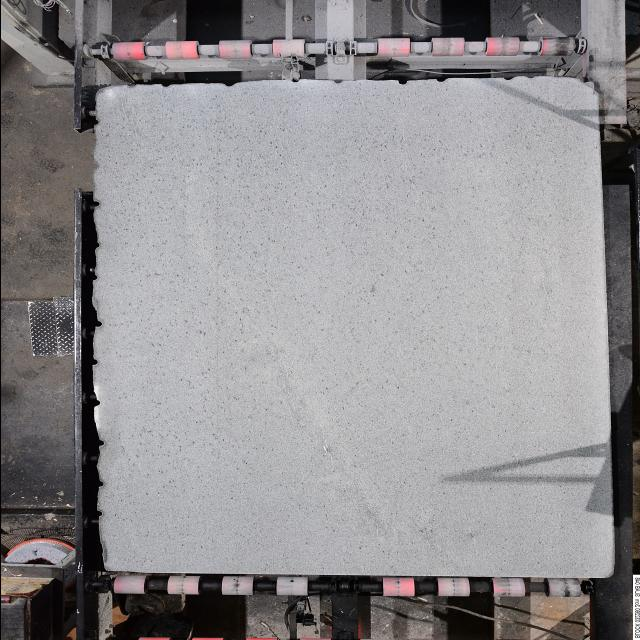chapa: (92, 78, 612, 578)
veio: (94, 438, 106, 448), (90, 198, 100, 208), (91, 320, 103, 328), (394, 79, 408, 85), (89, 358, 99, 366)
